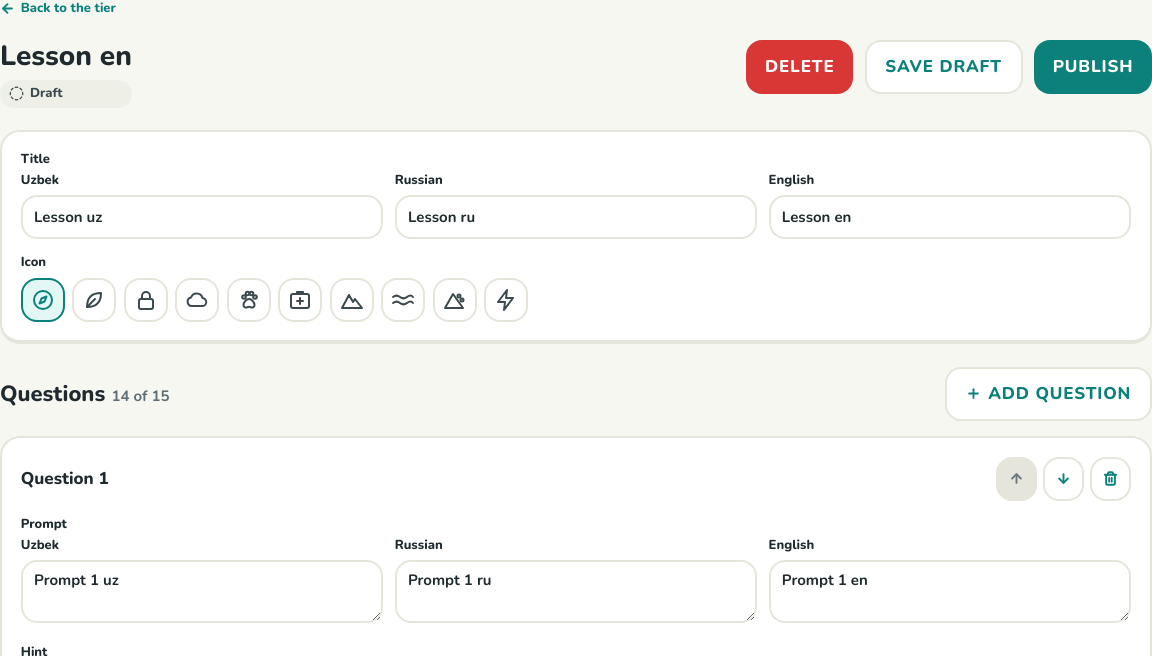
AC7 · lesson editor › adds questions up to 15 and removes one after confirming
Click the button with test id "lessons.editor.add-question": (1048, 394) [945, 367, 1151, 421]
(page scrolled)
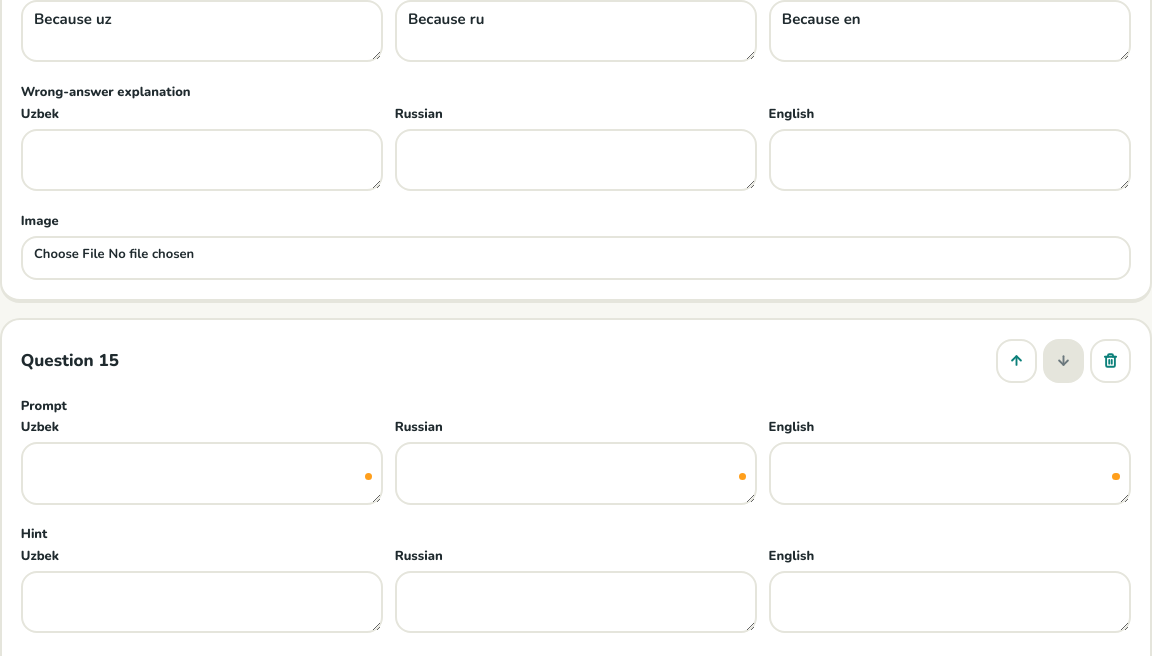
Click the button with test id "lessons.editor.q.15.remove": (1111, 361) [1090, 339, 1131, 383]
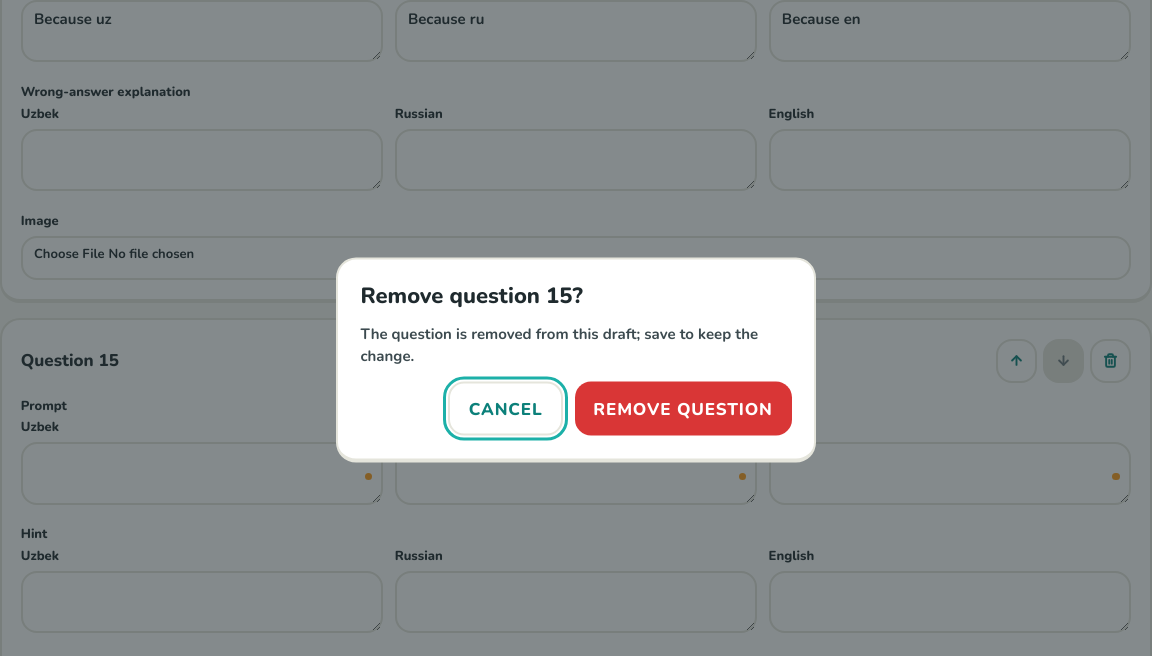
Click the button with test id "admin.dialog-confirm": (683, 409) [575, 382, 792, 436]
(page scrolled)
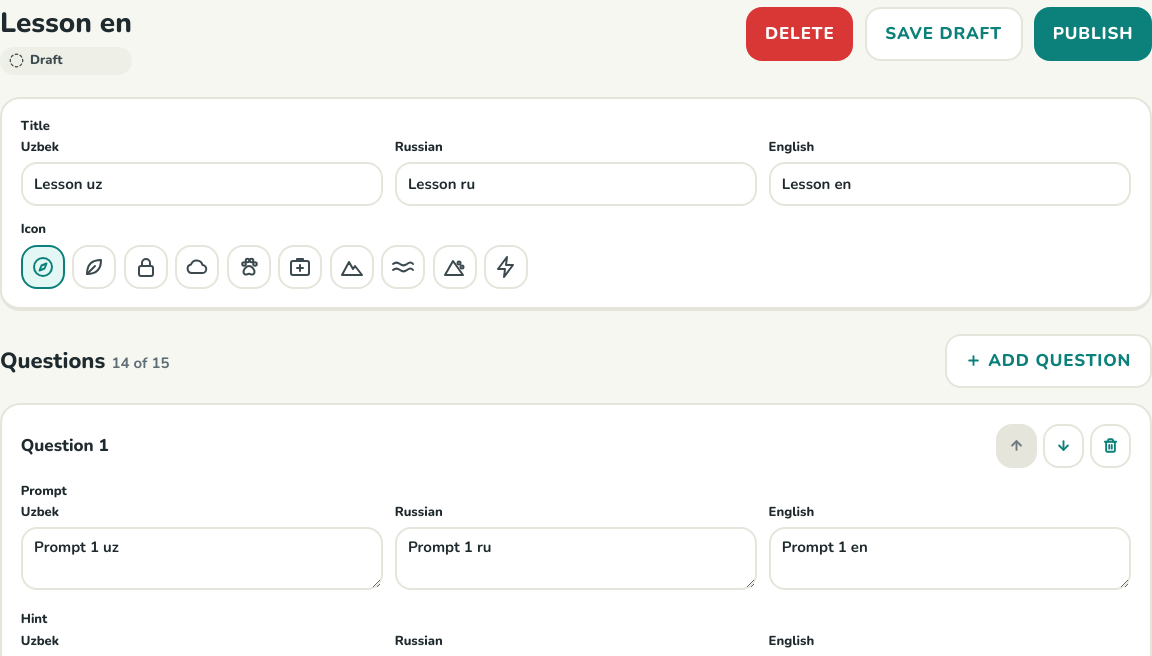
Check: the button with test id "lessons.editor.add-question" is enabled, box [945, 334, 1151, 388]
